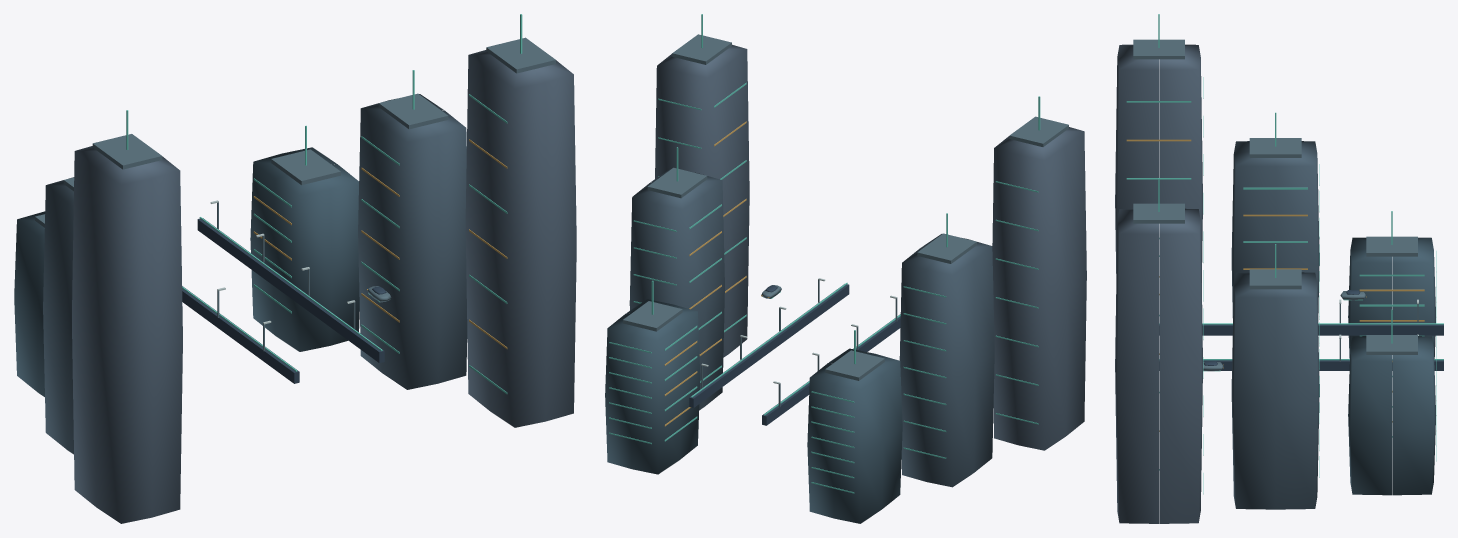
The model's file is skyway.glb.
The picture shows the model from 3 angles, left to right: view 1: azimuth 30°, elevation 25°; view 2: azimuth 150°, elevation 25°; view 3: azimuth 270°, elevation 25°; orthographic projection. The views are drawn at different scales.
Parts seen in each view (by area): view 1: skyway; view 2: skyway; view 3: skyway.
Part boxes in pixels (x1,y1,x2,y2): skyway: (14,14,576,523); skyway: (605,14,1086,523); skyway: (1115,14,1443,523).
Size of the model in its own units: 35 by 29 by 25.4.
